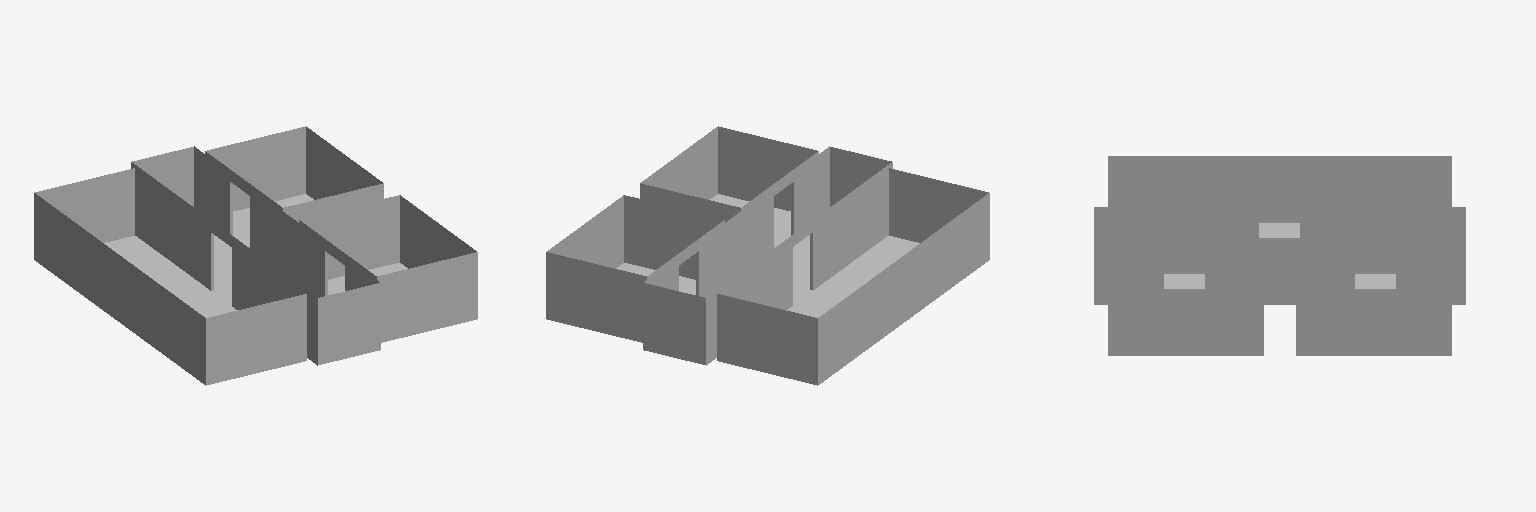
File: rooms2.obj
3 renders of one model, left to right at view 1: azimuth 30°, elevation 25°; view 2: azimuth 150°, elevation 25°; view 3: azimuth 270°, elevation 25°, orthographic.
Visible parts, largest first — view 1: NaturalRoom_Plane.003, Corridor_Plane.001, Toon_room_Plane.006, NURBSRoom_Plane.005; view 2: NaturalRoom_Plane.003, Corridor_Plane.001, NURBSRoom_Plane.005, Toon_room_Plane.006; view 3: NaturalRoom_Plane.003, Corridor_Plane.001, NURBSRoom_Plane.005, Toon_room_Plane.006.
Part boxes in pixels (left/top/right/bottom): NaturalRoom_Plane.003: left=34, top=168, right=306, bottom=385; Corridor_Plane.001: left=131, top=146, right=380, bottom=365; Toon_room_Plane.006: left=299, top=195, right=477, bottom=342; NURBSRoom_Plane.005: left=205, top=126, right=383, bottom=247; NaturalRoom_Plane.003: left=717, top=168, right=989, bottom=385; Corridor_Plane.001: left=643, top=146, right=892, bottom=365; NURBSRoom_Plane.005: left=546, top=195, right=724, bottom=342; Toon_room_Plane.006: left=640, top=126, right=818, bottom=247; NaturalRoom_Plane.003: left=1108, top=156, right=1451, bottom=237; Corridor_Plane.001: left=1094, top=207, right=1465, bottom=304; NURBSRoom_Plane.005: left=1296, top=239, right=1451, bottom=355; Toon_room_Plane.006: left=1108, top=239, right=1263, bottom=355.
Bounding box in the file's own units: 12.64 × 3 × 15.